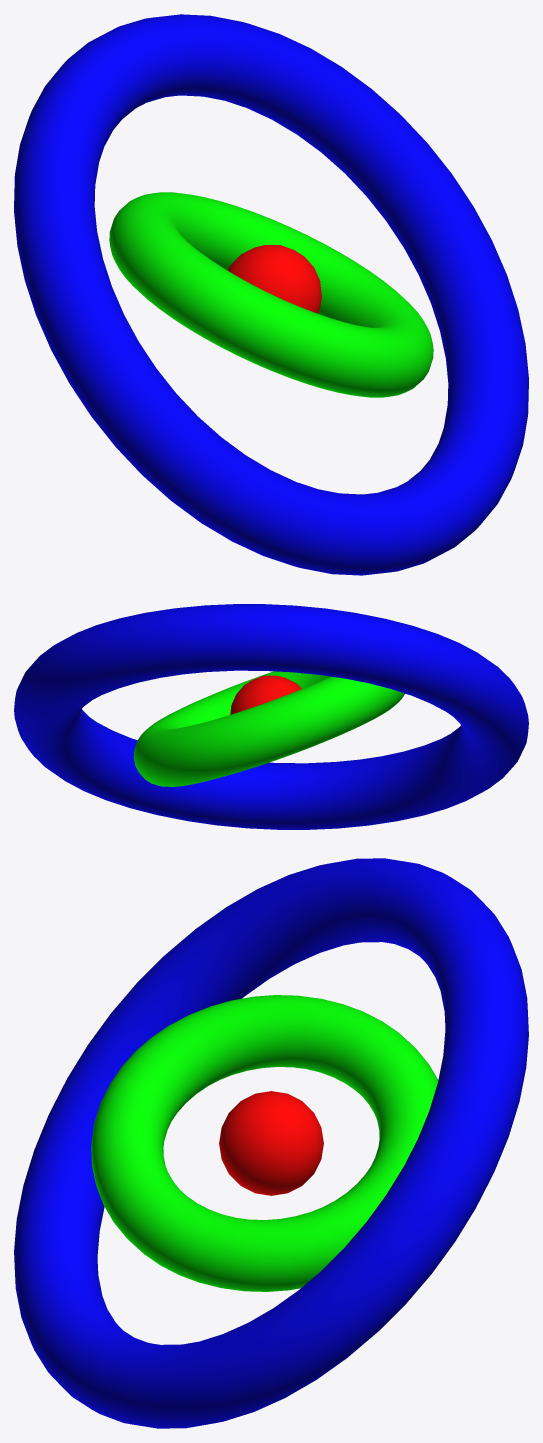
File: Rings.obj
3 renders of one model, top to bottom at view 1: azimuth 30°, elevation 25°; view 2: azimuth 150°, elevation 25°; view 3: azimuth 270°, elevation 25°, orthographic. The views are drawn at different scales.
Parts seen in each view (by area): view 1: Torus.002, Torus, Icosphere; view 2: Torus.002, Torus, Icosphere; view 3: Torus.002, Torus, Icosphere.
Boxes of the visible parts, left/top/right/bottom form: Torus.002: left=14, top=14, right=528, bottom=575; Torus: left=109, top=192, right=433, bottom=397; Icosphere: left=227, top=245, right=321, bottom=313; Torus.002: left=14, top=604, right=528, bottom=829; Torus: left=133, top=671, right=404, bottom=786; Icosphere: left=230, top=675, right=301, bottom=714; Torus.002: left=14, top=858, right=528, bottom=1428; Torus: left=91, top=995, right=438, bottom=1291; Icosphere: left=219, top=1091, right=323, bottom=1195.
Size of the model in its own units: 11.71 by 9.26 by 9.82.
